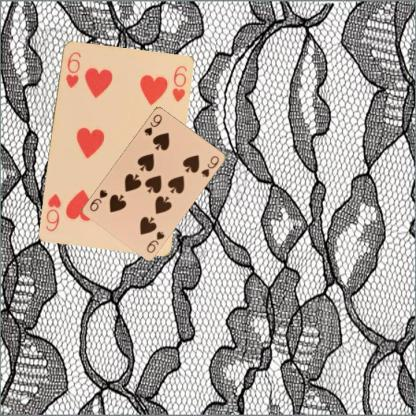6h: (63, 49, 82, 89)
9s: (141, 111, 163, 137), (144, 228, 166, 254)
